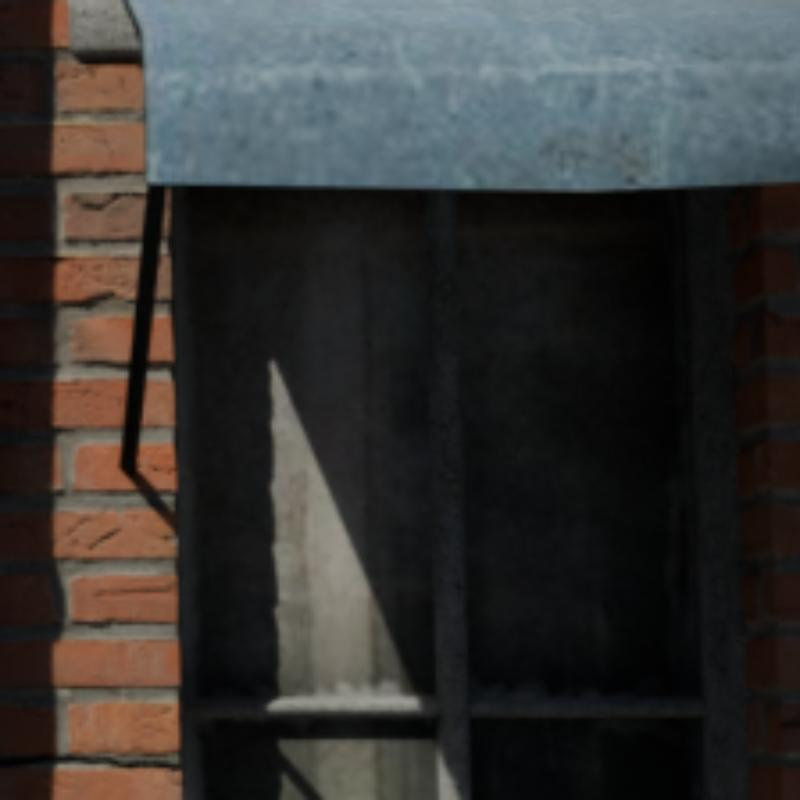pothole: (71, 193, 125, 211), (99, 759, 179, 768), (0, 757, 63, 764), (63, 757, 99, 759)
